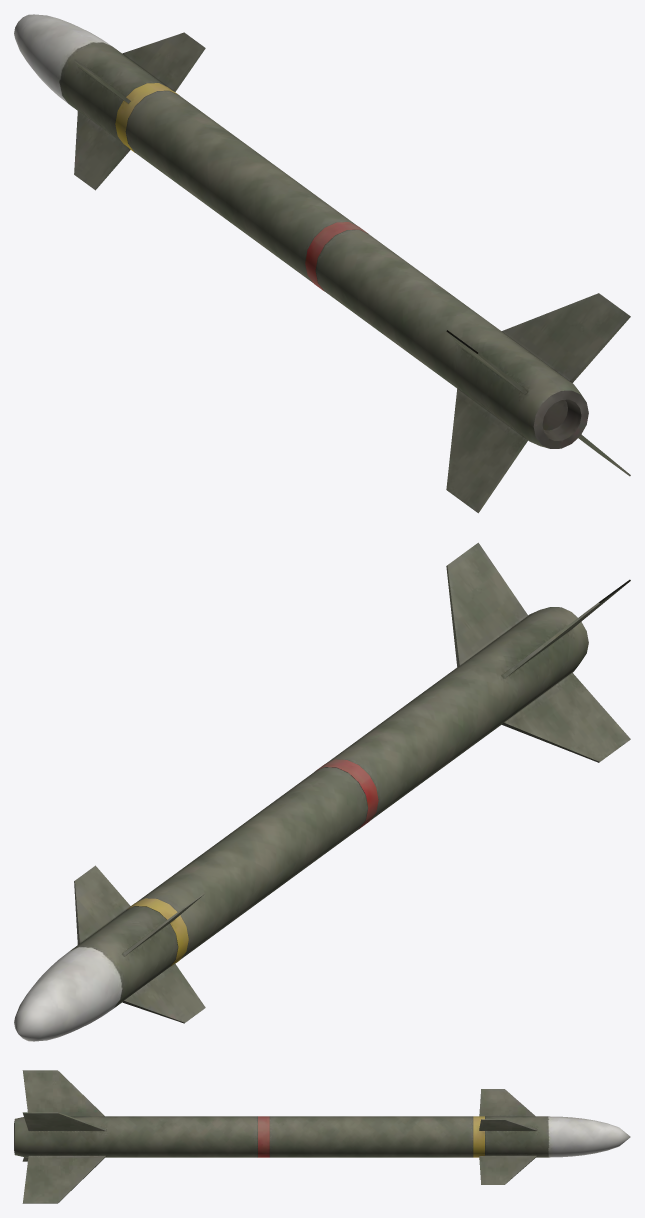
Rendered from sam_large.glb.
3 views of the same model, one above another, from view 1: azimuth 30°, elevation 25°; view 2: azimuth 150°, elevation 25°; view 3: azimuth 270°, elevation 25° (orthographic). The views are drawn at different scales.
Parts seen in each view (by area): view 1: body; view 2: body; view 3: body.
Part boxes in pixels (<box>): body: <box>14,14,630,513</box>; body: <box>14,542,630,1041</box>; body: <box>14,1070,630,1203</box>.
Bounding box in the file's own units: 0.5137 × 0.5137 × 3.15.
Materials: 1 (1 with a texture image).
